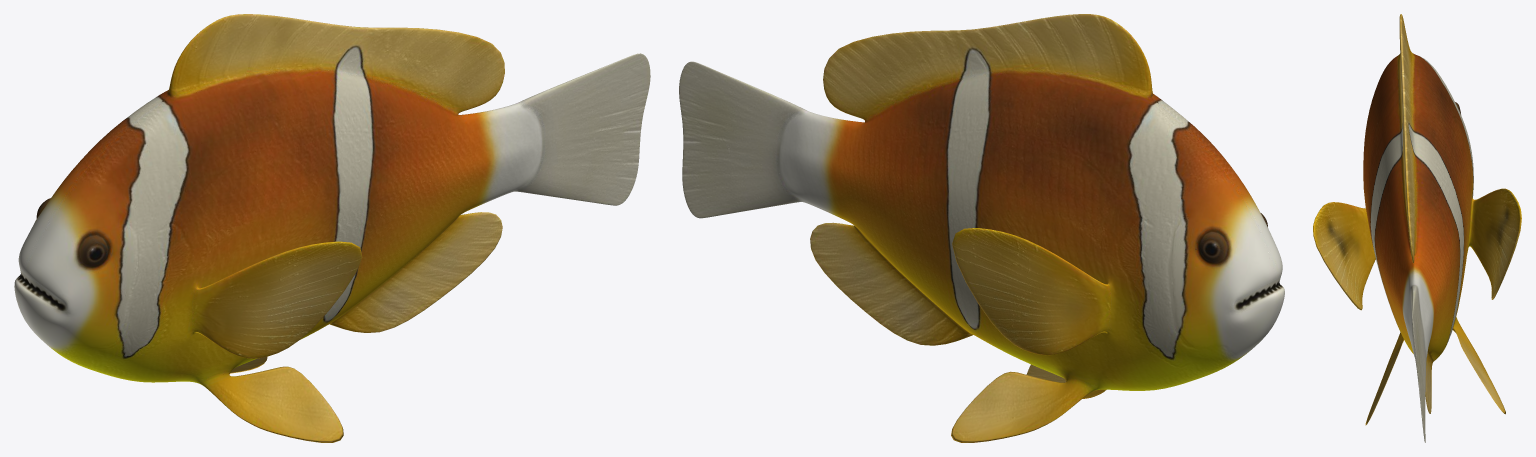
Rendered from fish.gltf.
3 renders of one model, left to right at view 1: azimuth 30°, elevation 25°; view 2: azimuth 150°, elevation 25°; view 3: azimuth 270°, elevation 25°, orthographic. The views are drawn at different scales.
Visible parts, largest first — view 1: 12265_Fish_v1_L2; view 2: 12265_Fish_v1_L2; view 3: 12265_Fish_v1_L2.
Part boxes in pixels (x1,y1,x2,y2): 12265_Fish_v1_L2: (14, 14, 650, 442); 12265_Fish_v1_L2: (679, 14, 1284, 442); 12265_Fish_v1_L2: (1313, 14, 1521, 442).
Size of the model in its own units: 2.99 by 1.97 by 1.01.
Materials: 1 (1 with a texture image).
